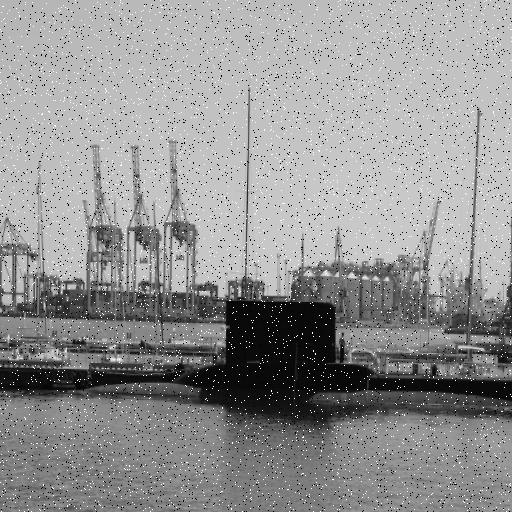submarine: (84, 297, 512, 420)
